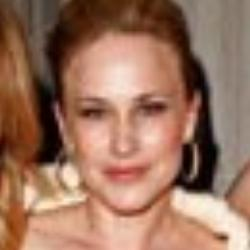face: (39, 3, 220, 225)
